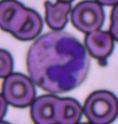N: (26, 32, 89, 94)
